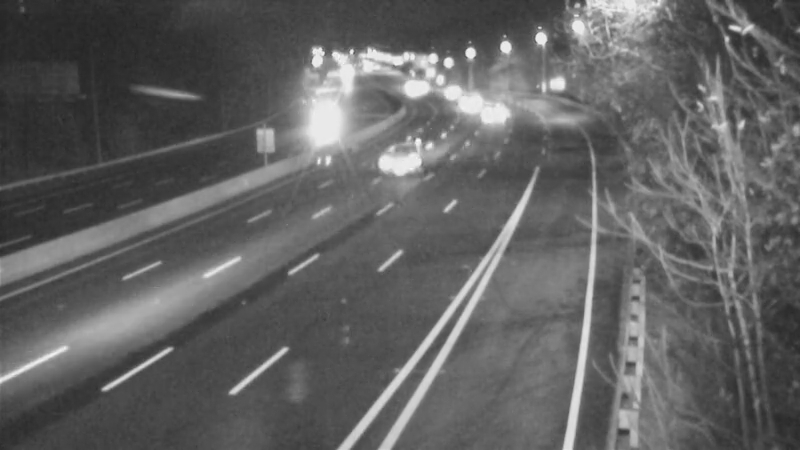vehicle: (365, 119, 445, 199), (425, 67, 475, 117), (442, 79, 492, 129), (466, 89, 516, 139), (301, 100, 351, 150)
